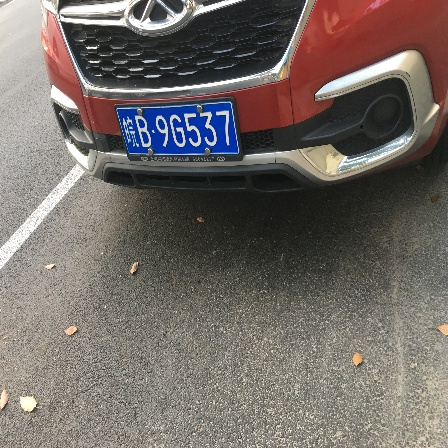plate: (114, 100, 247, 166)
